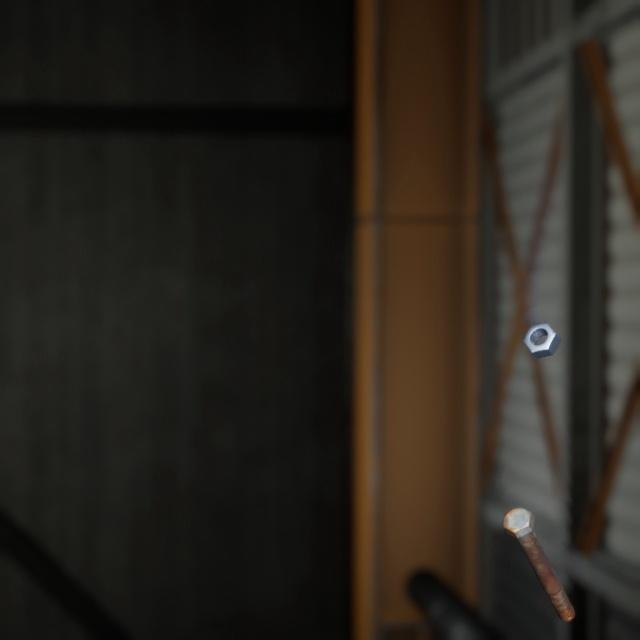bolt: (498, 479, 579, 604)
nut: (518, 299, 565, 344)
